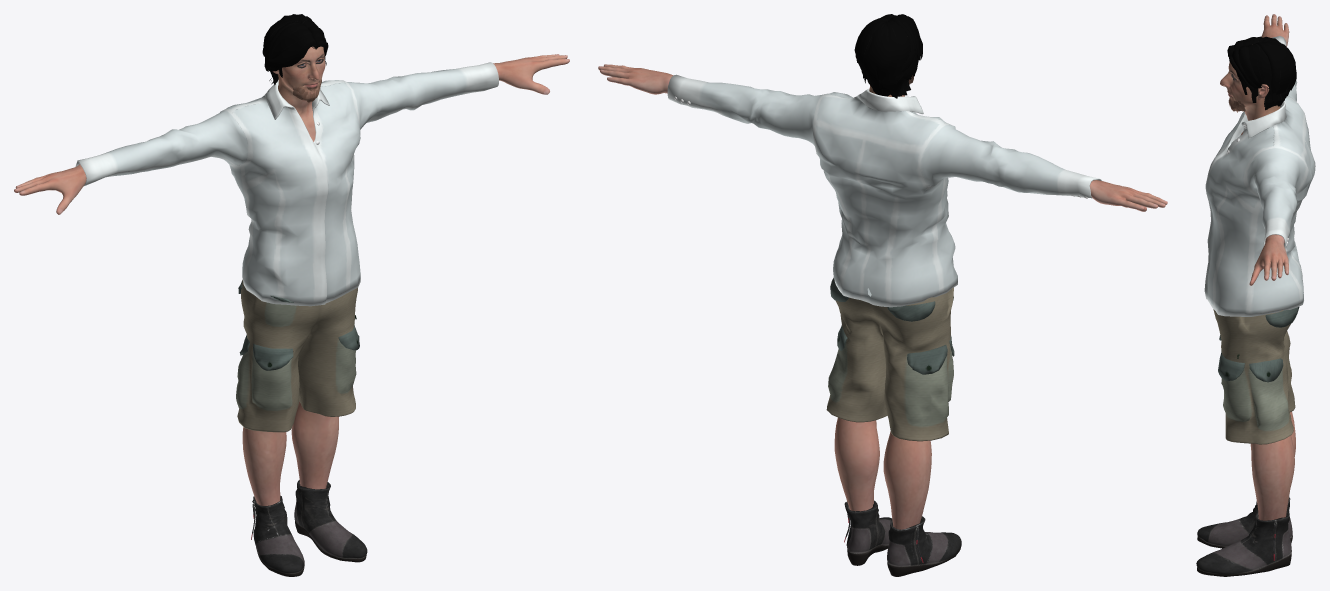
The model's file is hiroyuki.obj.
The picture shows the model from 3 angles, left to right: view 1: azimuth 30°, elevation 25°; view 2: azimuth 150°, elevation 25°; view 3: azimuth 270°, elevation 25°; orthographic projection. The views are drawn at different scales.
Parts seen in each view (by area): view 1: Tops, Bottoms, Body, Shoes, Hair; view 2: Tops, Bottoms, Body, Shoes, Hair; view 3: Tops, Bottoms, Body, Shoes, Hair.
Part boxes in pixels (bbox=[...]): Tops: bbox=[75, 62, 498, 306]; Bottoms: bbox=[236, 280, 359, 432]; Body: bbox=[14, 46, 569, 505]; Shoes: bbox=[251, 480, 367, 576]; Hair: bbox=[262, 14, 328, 85]; Tops: bbox=[667, 74, 1101, 307]; Bottoms: bbox=[826, 277, 954, 441]; Body: bbox=[598, 64, 1167, 529]; Shoes: bbox=[844, 500, 961, 576]; Hair: bbox=[854, 14, 922, 98]; Tops: bbox=[1204, 36, 1315, 316]; Bottoms: bbox=[1213, 307, 1299, 444]; Body: bbox=[1220, 14, 1295, 520]; Shoes: bbox=[1196, 497, 1292, 576]; Hair: bbox=[1227, 36, 1296, 110].
Size of the model in its own units: 201 by 183 by 38.21.
Materials: 1 (1 with a texture image).
